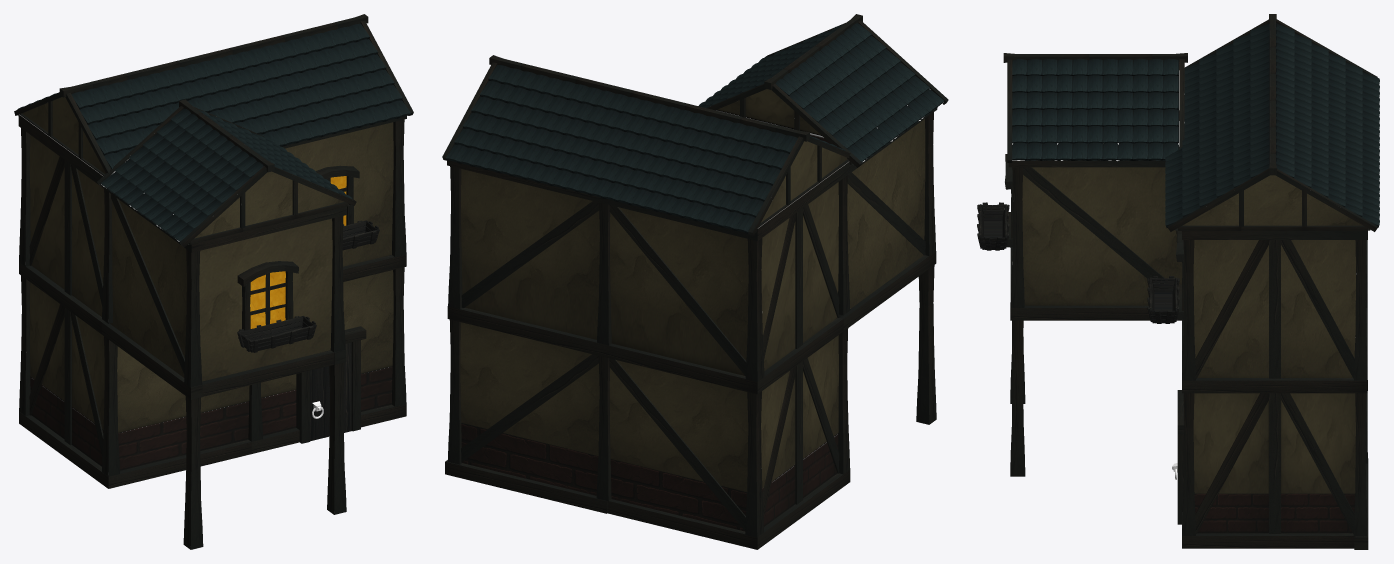
File: Normal.House.001.glb
The picture shows the model from 3 angles, left to right: view 1: azimuth 30°, elevation 25°; view 2: azimuth 150°, elevation 25°; view 3: azimuth 270°, elevation 25°; orthographic projection. The views are drawn at different scales.
Parts seen in each view (by area): view 1: Normal.House.001; view 2: Normal.House.001; view 3: Normal.House.001.
Part boxes in pixels (box(x1,y1,x2,y2)): Normal.House.001: box(14, 14, 413, 549); Normal.House.001: box(442, 14, 948, 549); Normal.House.001: box(977, 14, 1379, 549).
Bounding box in the file's own units: 6.86 × 7.73 × 7.38.
Materials: 3 (3 with a texture image).
